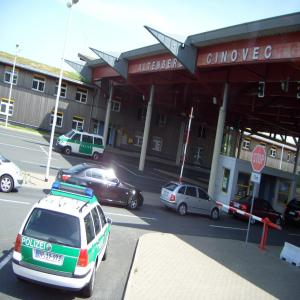Vehicle-registration-plate: (36, 251, 63, 265), (164, 191, 170, 197)
